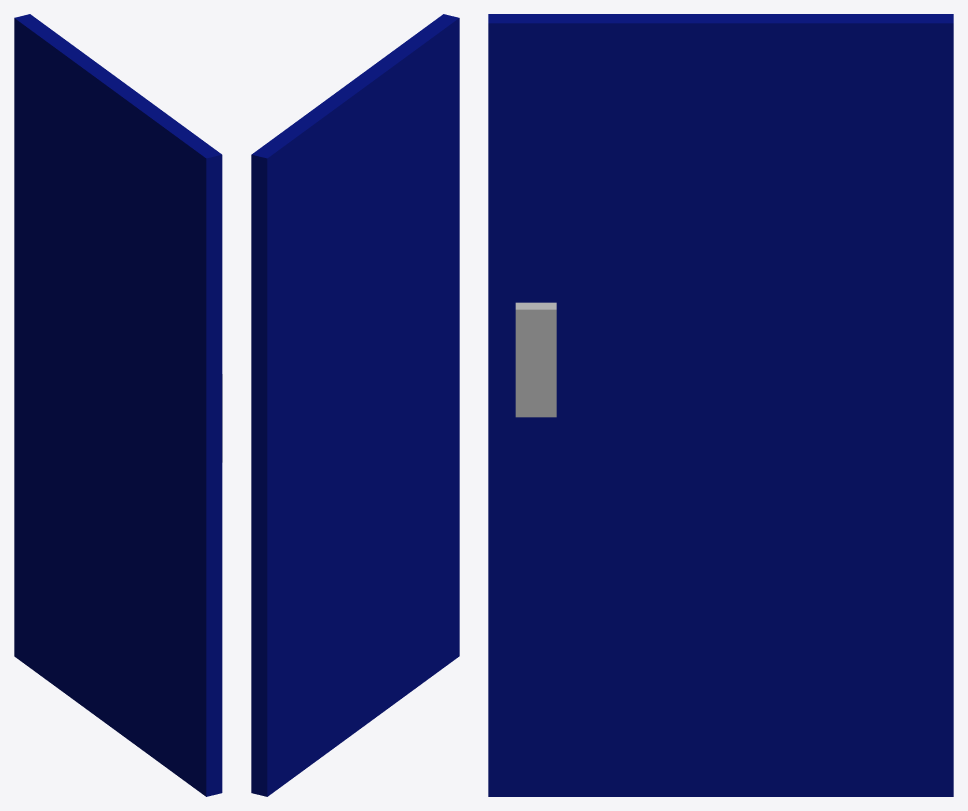
File: Toilet_Cubicle_Door.fbx
3 views of the same model, side by side, from view 1: azimuth 30°, elevation 25°; view 2: azimuth 150°, elevation 25°; view 3: azimuth 270°, elevation 25° (orthographic). The views are drawn at different scales.
Visible parts, largest first — view 1: Cube.001; view 2: Cube.001; view 3: Cube.001.
Boxes of the visible parts, bbox=[...] form: Cube.001: bbox=[14, 14, 222, 796]; Cube.001: bbox=[251, 14, 459, 796]; Cube.001: bbox=[488, 14, 953, 796].
Size of the model in its own units: 0.1 by 2.2 by 1.2.
